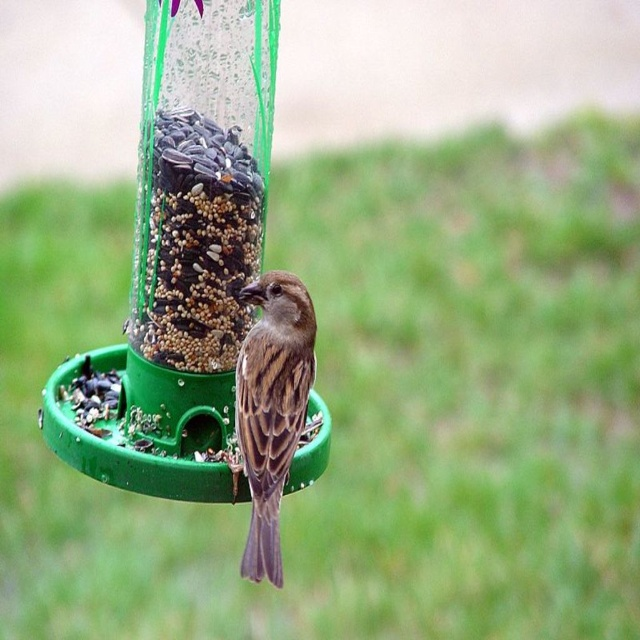Sparrow: (209, 268, 322, 588)
